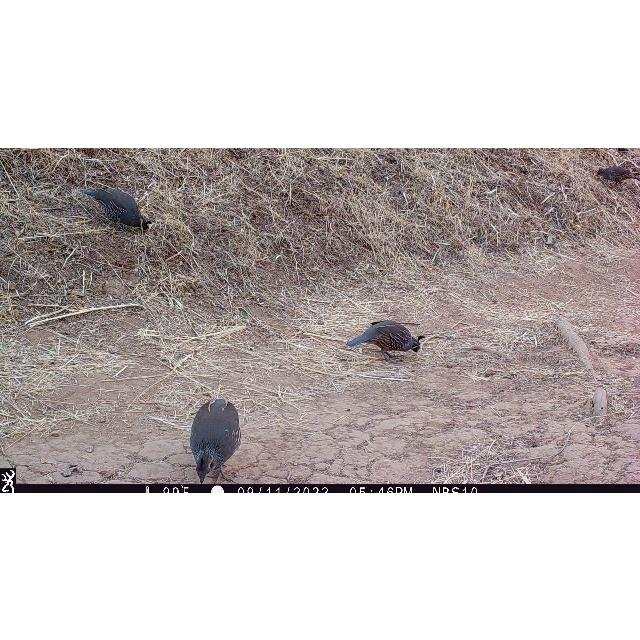animals: (190, 396, 242, 484), (79, 181, 153, 235), (346, 318, 426, 362)
